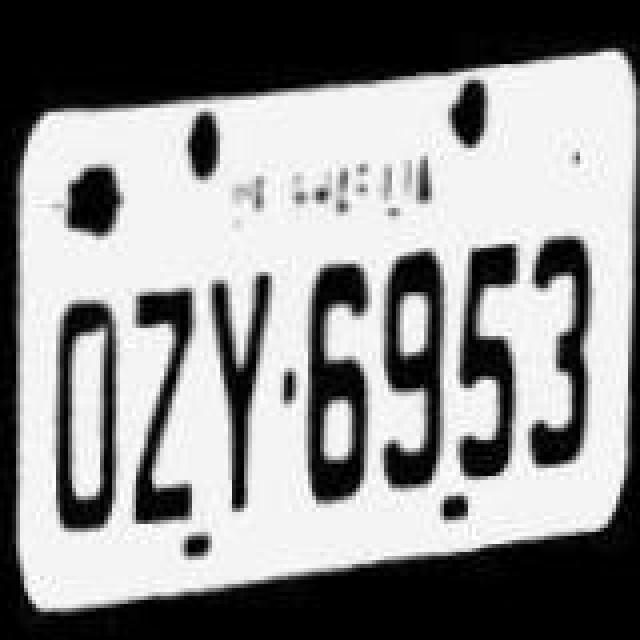3: (522, 204, 610, 492)
5: (450, 204, 538, 492)
6: (298, 232, 382, 516)
9: (372, 230, 452, 502)
O: (42, 276, 130, 556)
Y: (200, 244, 280, 532)
Z: (116, 266, 200, 554)
